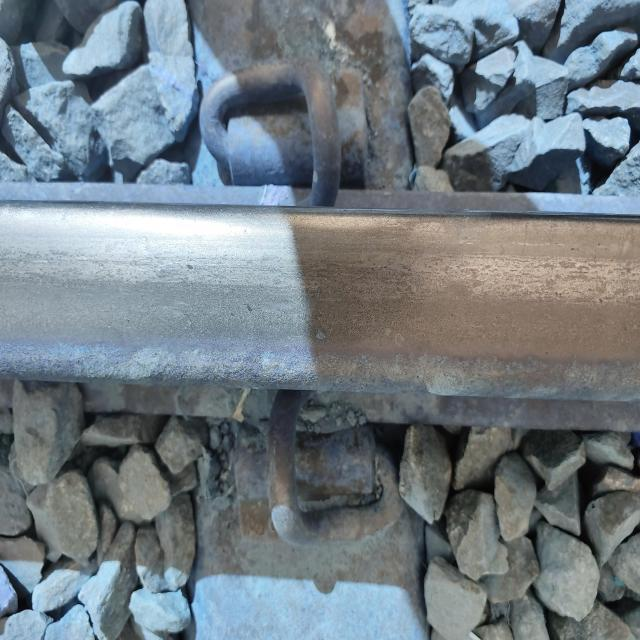Good Fasteners: (182, 34, 379, 209), (219, 397, 413, 563)
